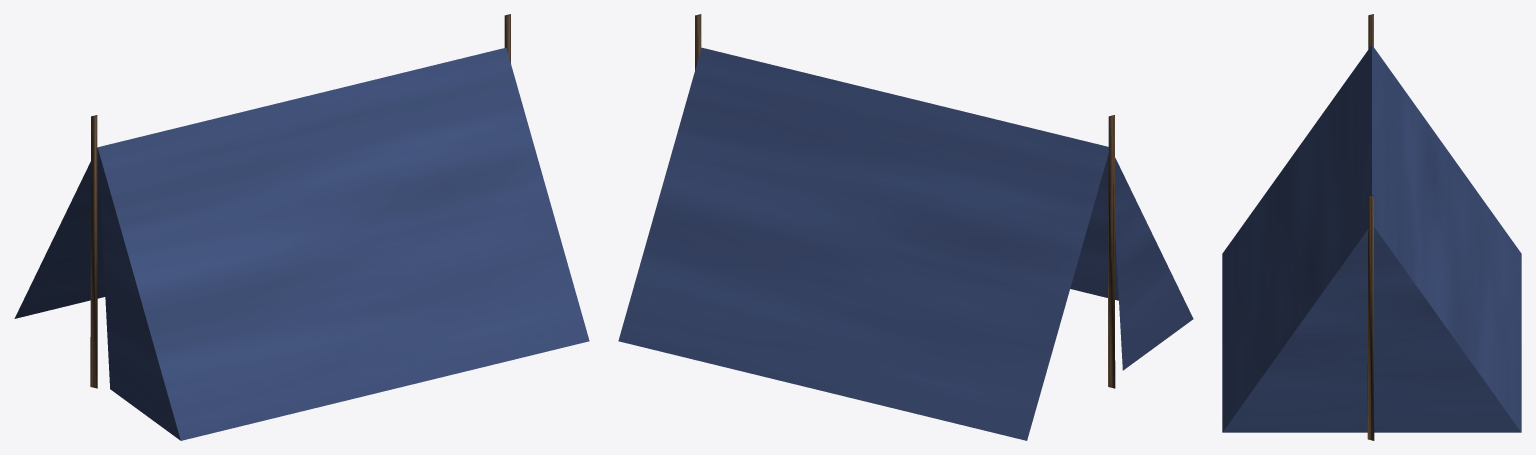
File: Tent_Pilgrim_5_LOD2.gltf
3 renders of one model, left to right at view 1: azimuth 30°, elevation 25°; view 2: azimuth 150°, elevation 25°; view 3: azimuth 270°, elevation 25°, orthographic. The views are drawn at different scales.
Visible parts, largest first — view 1: Tent_Pilgrim_5_LOD2; view 2: Tent_Pilgrim_5_LOD2; view 3: Tent_Pilgrim_5_LOD2.
Boxes of the visible parts, x1=… form: Tent_Pilgrim_5_LOD2: x1=14, y1=14, x2=589, y2=440; Tent_Pilgrim_5_LOD2: x1=618, y1=14, x2=1193, y2=440; Tent_Pilgrim_5_LOD2: x1=1222, y1=14, x2=1521, y2=440.
Bounding box in the file's own units: 5.25 × 3.23 × 3.6.
2 materials, 2 textured.
